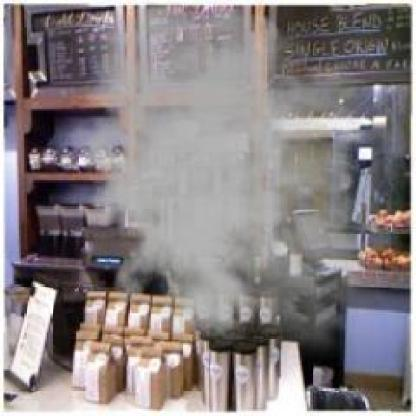Smoke: (56, 0, 409, 369)
